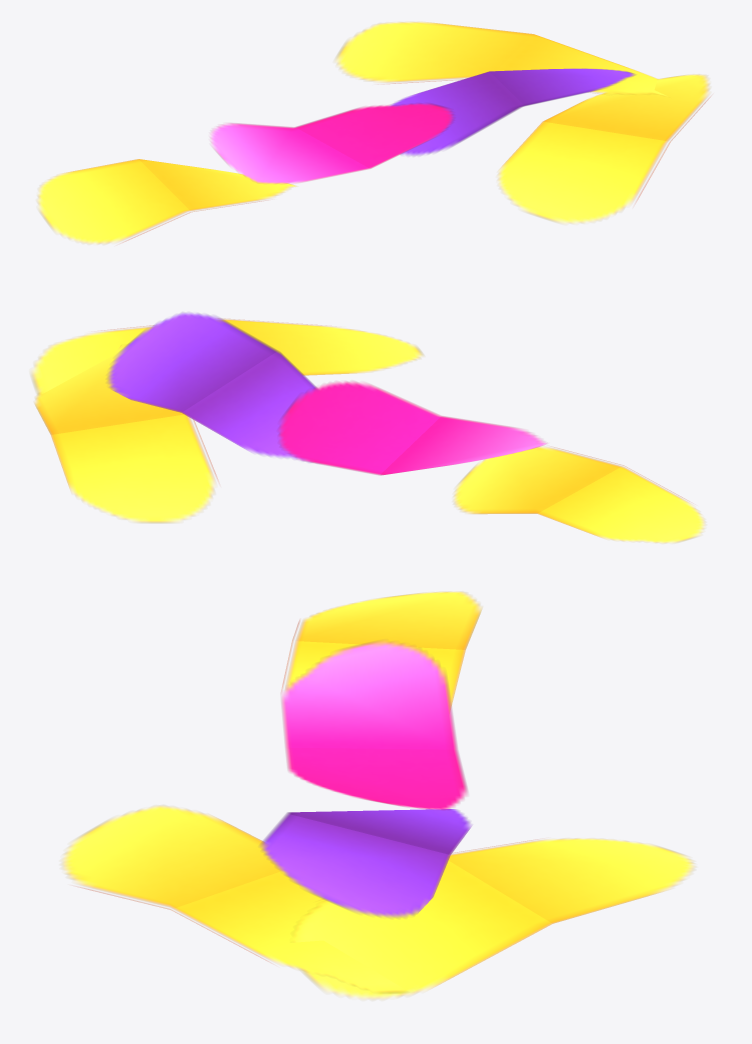
File: confettiarrow.glb
3 renders of one model, top to bottom at view 1: azimuth 30°, elevation 25°; view 2: azimuth 150°, elevation 25°; view 3: azimuth 270°, elevation 25°, orthographic. The views are drawn at different scales.
Visible parts, largest first — view 1: particle_18.003, particle_18.001, particle_18.002, particle_10.001, particle_0.001; view 2: particle_18.002, particle_0.001, particle_10.001, particle_18.001, particle_18.003; view 3: particle_18.002, particle_18.003, particle_10.001, particle_0.001, particle_18.001.
Part boxes in pixels (left/top/right/bottom): particle_18.003: left=498, top=74, right=710, bottom=223; particle_18.001: left=37, top=159, right=296, bottom=244; particle_18.002: left=335, top=22, right=668, bottom=96; particle_10.001: left=210, top=103, right=453, bottom=183; particle_0.001: left=390, top=68, right=635, bottom=155; particle_18.002: left=34, top=344, right=218, bottom=523; particle_0.001: left=107, top=312, right=317, bottom=462; particle_10.001: left=278, top=381, right=547, bottom=475; particle_18.001: left=453, top=446, right=705, bottom=543; particle_18.003: left=31, top=318, right=423, bottom=395; particle_18.002: left=292, top=838, right=694, bottom=999; particle_18.003: left=61, top=805, right=407, bottom=993; particle_10.001: left=281, top=641, right=467, bottom=809; particle_0.001: left=260, top=809, right=471, bottom=917; particle_18.001: left=281, top=591, right=482, bottom=711.
Bounding box in the file's own units: 1.23 × 0.137 × 0.893.
Materials: 1 (1 with a texture image).
